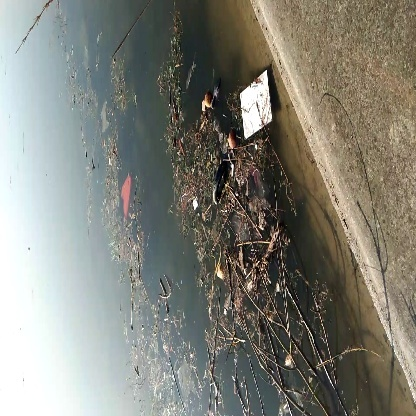plastic-garbage: (235, 61, 277, 145)
